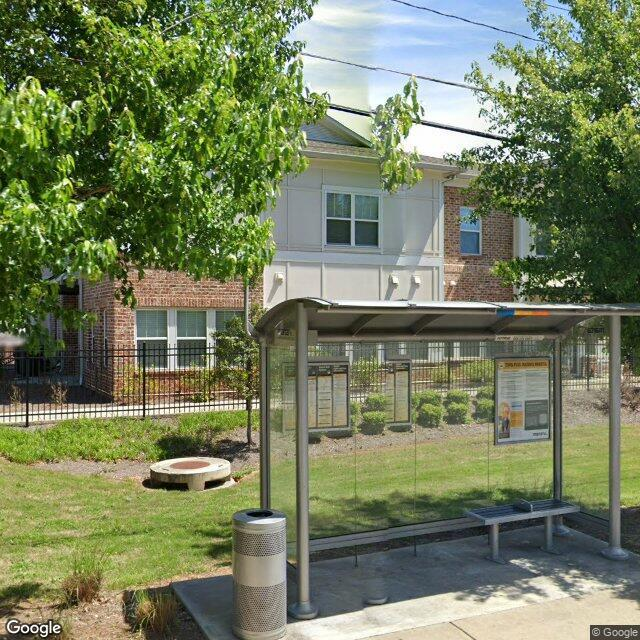seating: (464, 498, 580, 564)
shelter: (249, 296, 640, 618)
trash_can: (230, 508, 288, 638)
